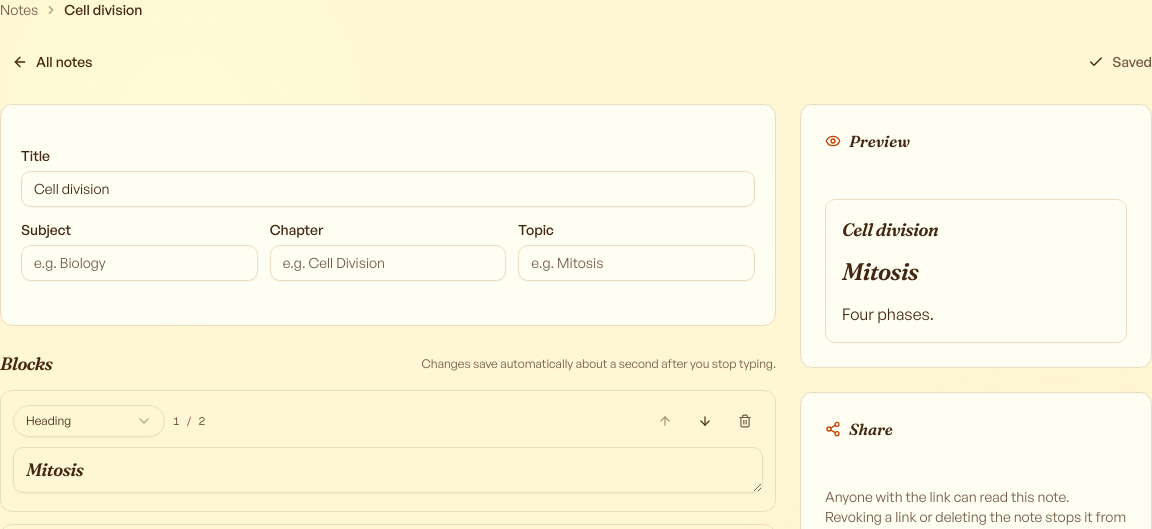
it: NoteDetail › pauses autosave and warns when the revision is stale
Replace the text in the field showing "Cell division" with "Conflicting edit": {"x": 388, "y": 189} [21,171,755,207]
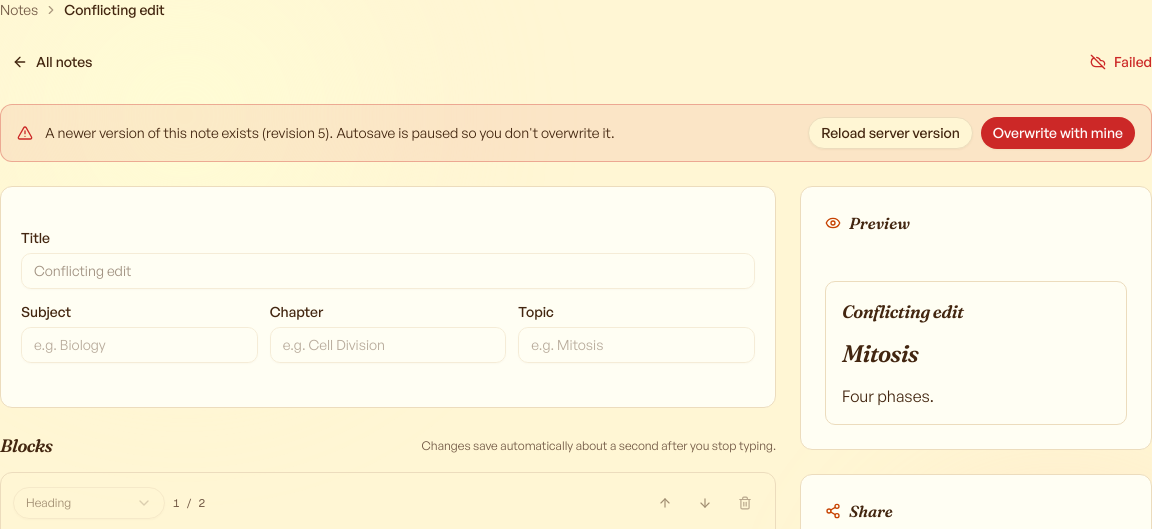
Expected: the text "A newer version of this note exists" is shown, [45,124,315,141]
Expected: the button "Reload server version" is shown, [808,117,973,149]
Expected: the button "Overwrite with mine" is shown, [981,117,1135,149]
